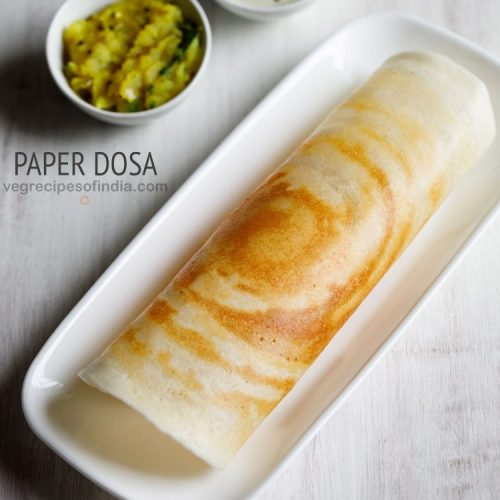dosa: (75, 42, 500, 468)
